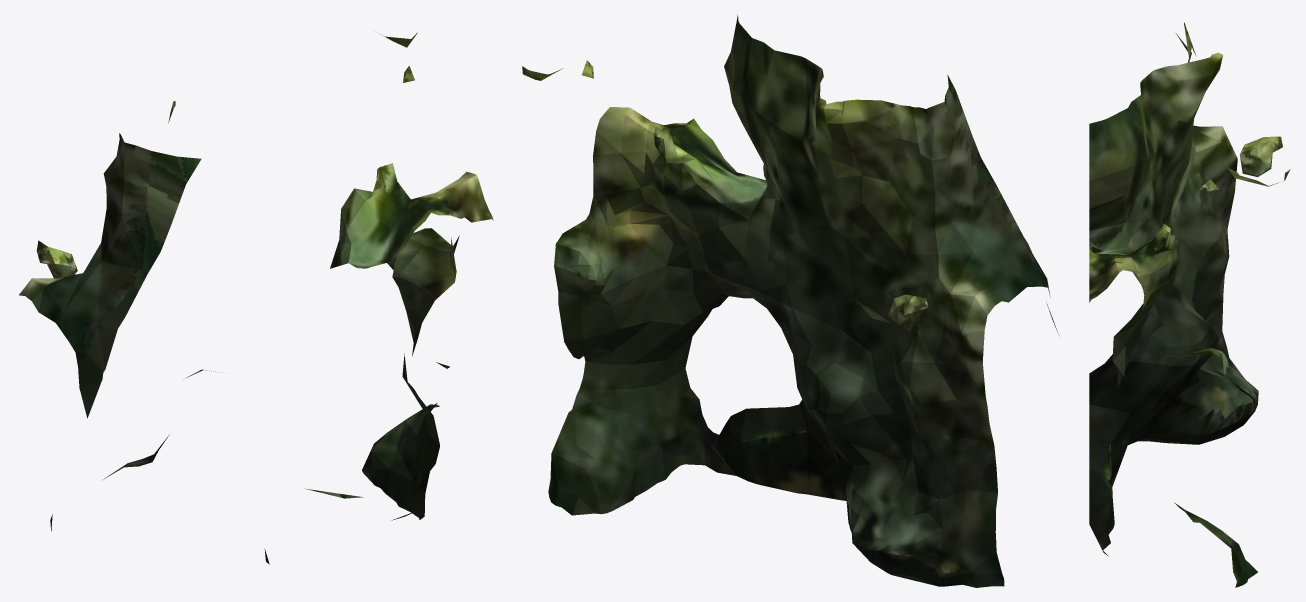
3 renders of one model, left to right at view 1: azimuth 30°, elevation 25°; view 2: azimuth 150°, elevation 25°; view 3: azimuth 270°, elevation 25°, orthographic. The views are drawn at different scales.
Size of the model in its own units: 0.8373 by 0.8374 by 0.3692.
3 materials, 3 textured.
